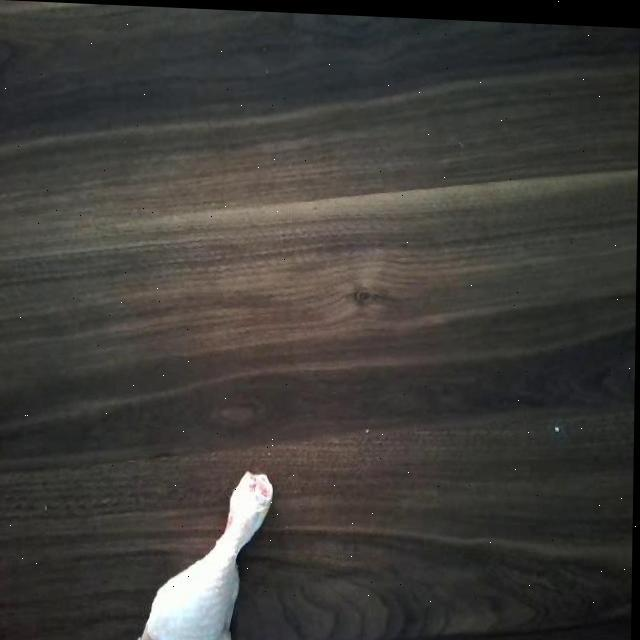leg: (143, 458, 273, 640)
